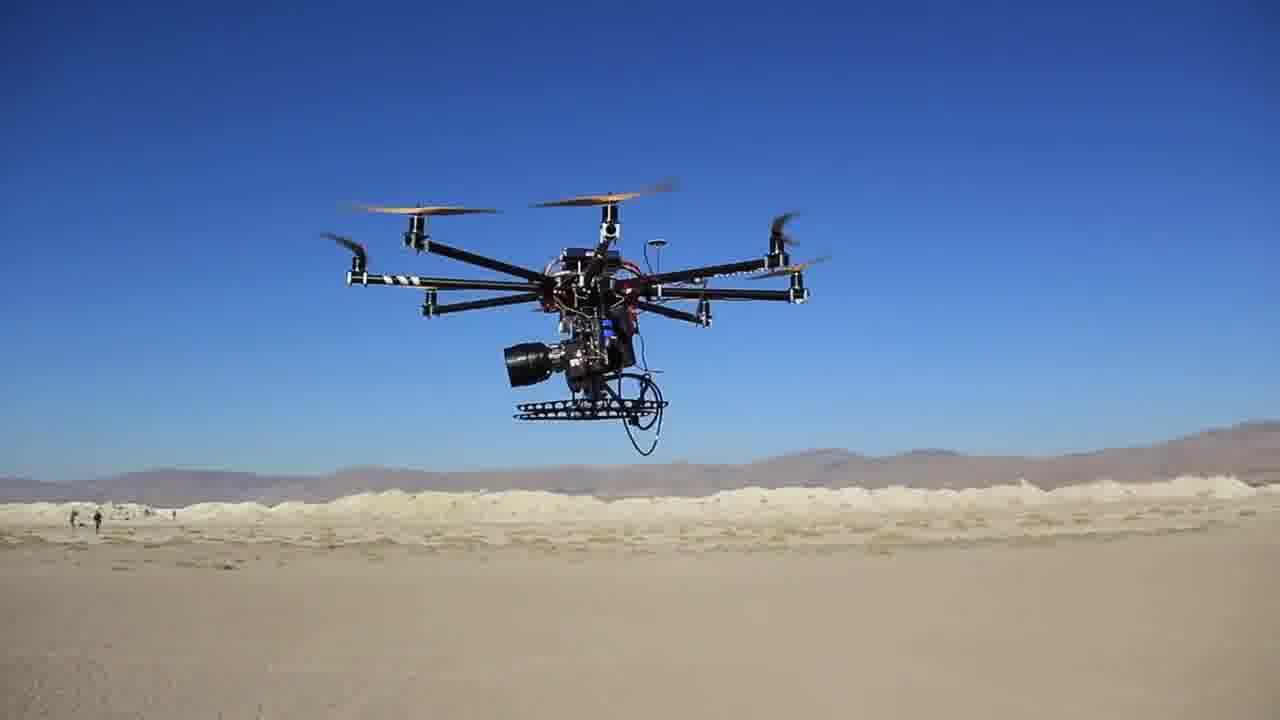drone: (310, 170, 832, 449)
